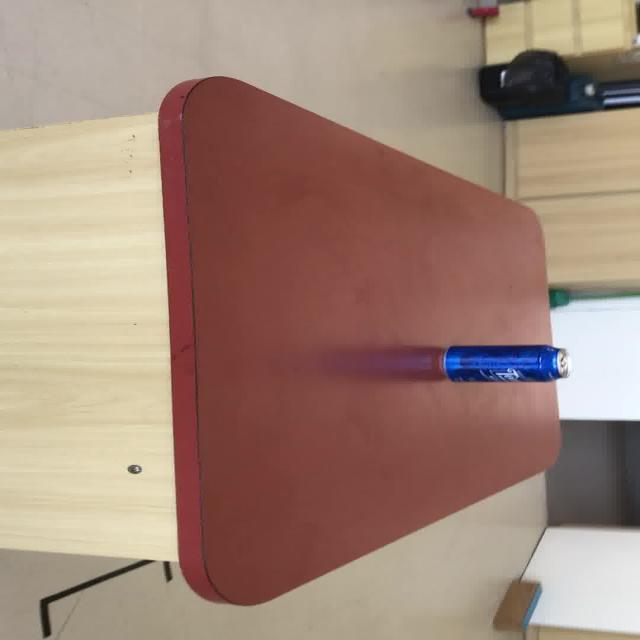tonic: (306, 343, 569, 383), (438, 344, 568, 382)
